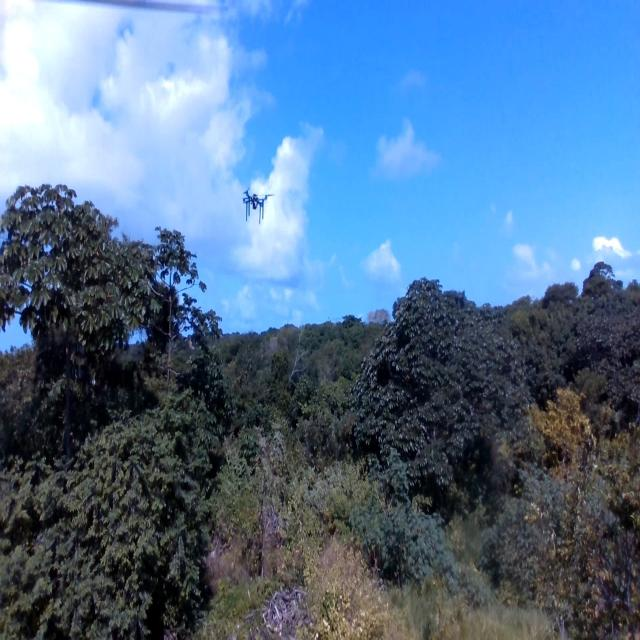-uav-: (235, 169, 274, 232)
